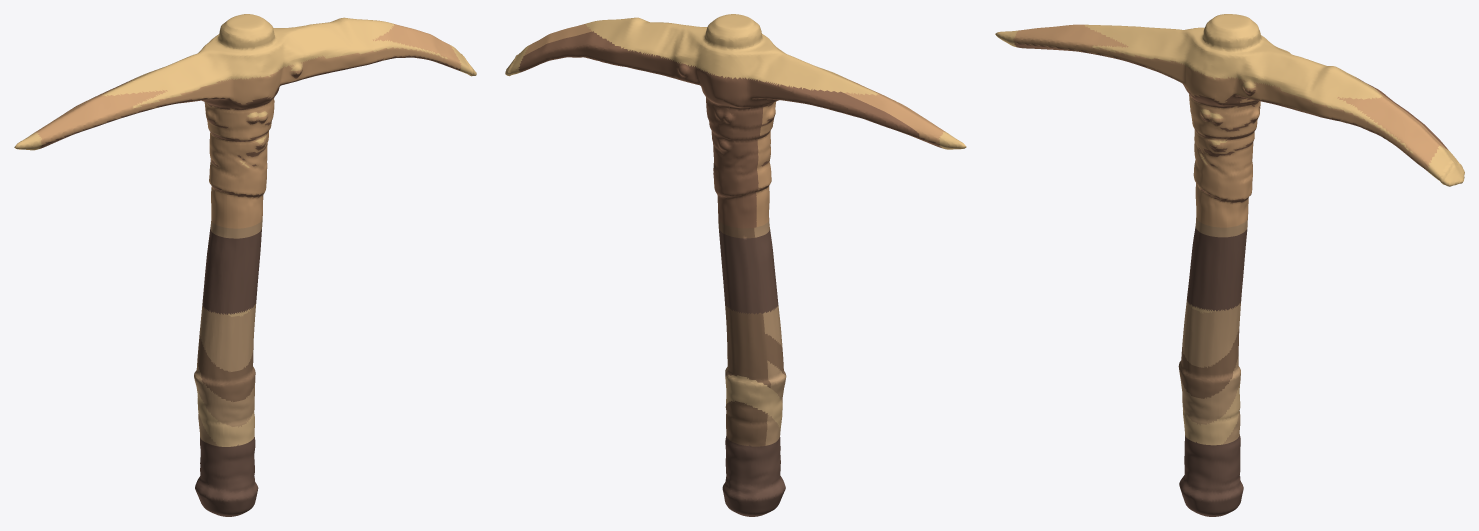
The model's file is bronze_pickaxe_ai_colored.glb.
The picture shows the model from 3 angles, left to right: view 1: azimuth 30°, elevation 25°; view 2: azimuth 150°, elevation 25°; view 3: azimuth 330°, elevation 25°; orthographic projection.
Parts seen in each view (by area): view 1: bronze_pickaxe_ai_colored; view 2: bronze_pickaxe_ai_colored; view 3: bronze_pickaxe_ai_colored.
Boxes of the visible parts, box(x1,y1,x2,y2) form: bronze_pickaxe_ai_colored: box(14, 14, 476, 516); bronze_pickaxe_ai_colored: box(505, 14, 966, 516); bronze_pickaxe_ai_colored: box(995, 14, 1464, 516).
Size of the model in its own units: 1.93 by 1.96 by 0.3025.
